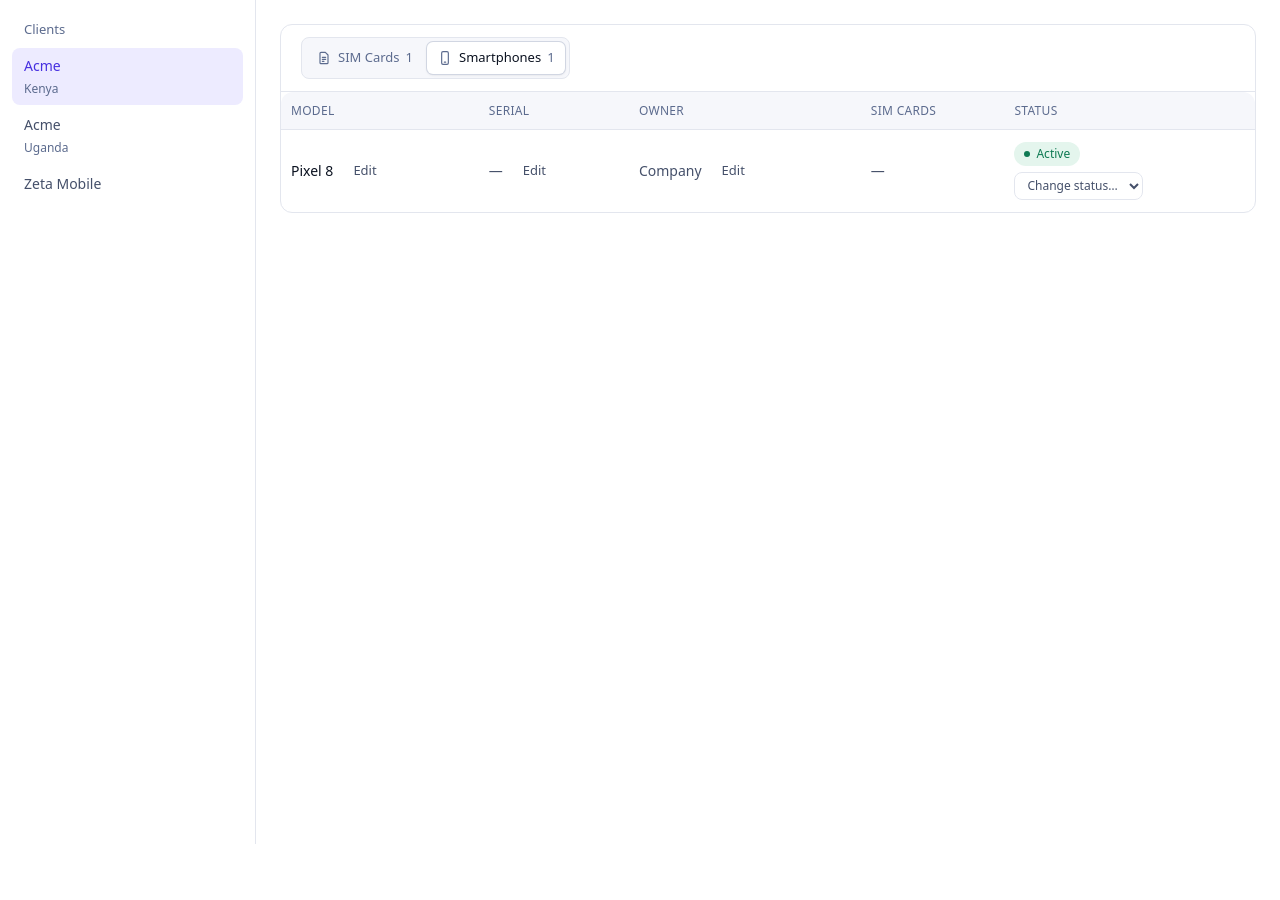
Test: AgentFleetView › honours ?tab=smartphones and keeps the tab across a Client pick
Click the link "Zeta Mobile" at [63, 183], box [24,174,101,193]
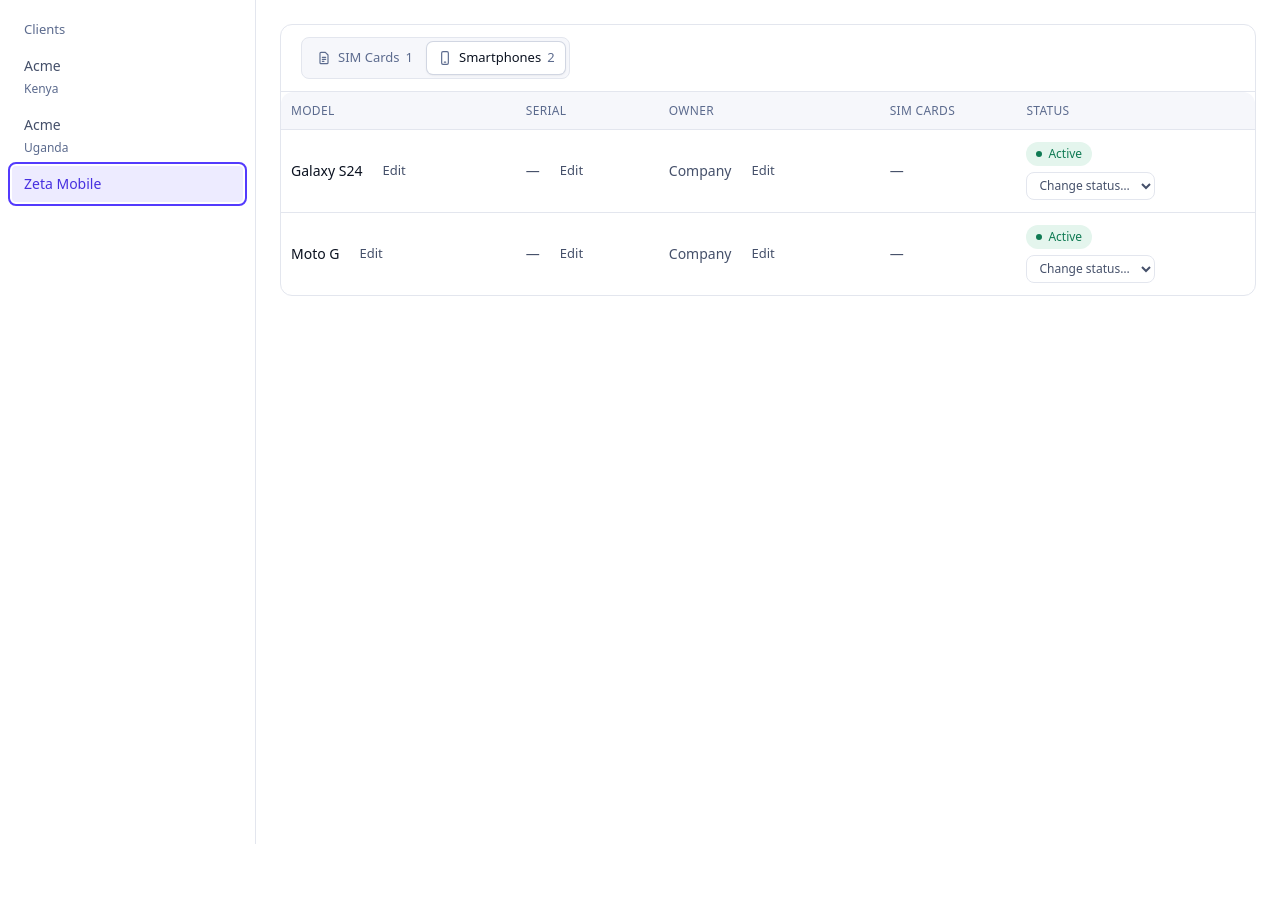
Expected: the text "Galaxy S24" is shown, [291,161,362,181]
